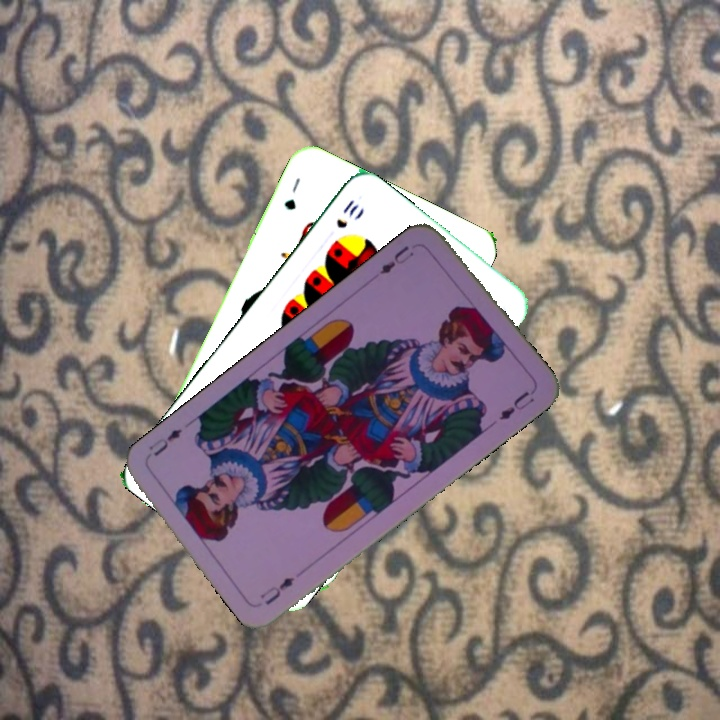EU: (375, 241, 417, 277), (256, 572, 298, 608)
GU: (279, 173, 303, 213)
S10: (332, 195, 362, 232)
